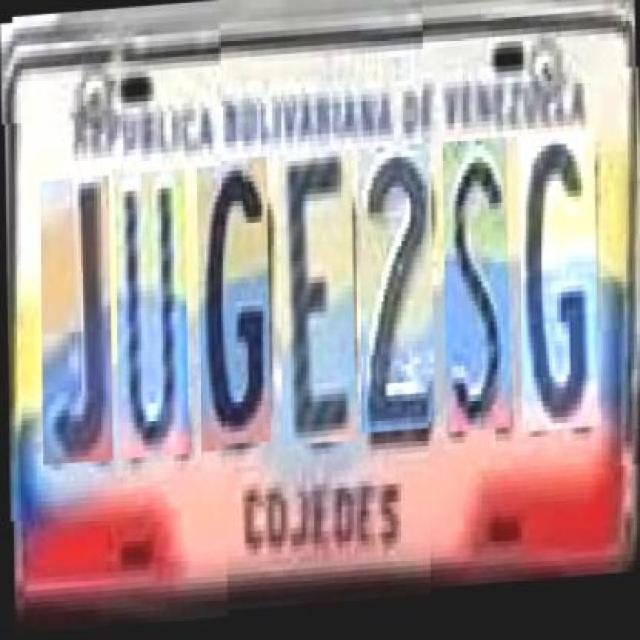2: (358, 144, 433, 433)
e: (278, 149, 354, 445)
g: (518, 140, 598, 442), (196, 154, 270, 443)
j: (38, 164, 112, 453)
s: (442, 145, 509, 441)
u: (114, 160, 188, 449)
